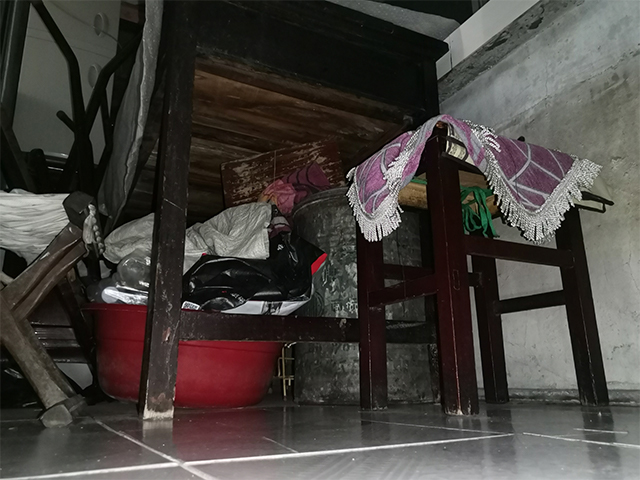stool: (344, 111, 617, 419), (1, 188, 108, 430)
table: (97, 1, 462, 422)
